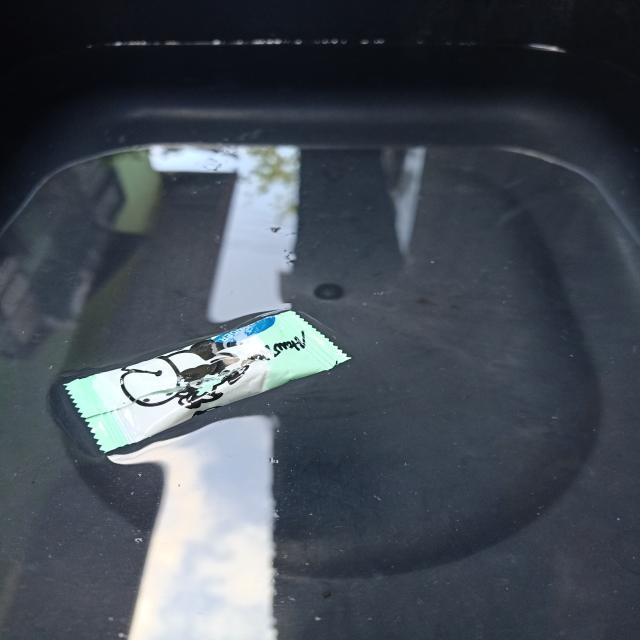Plastic Wrapper: (49, 305, 351, 457)
